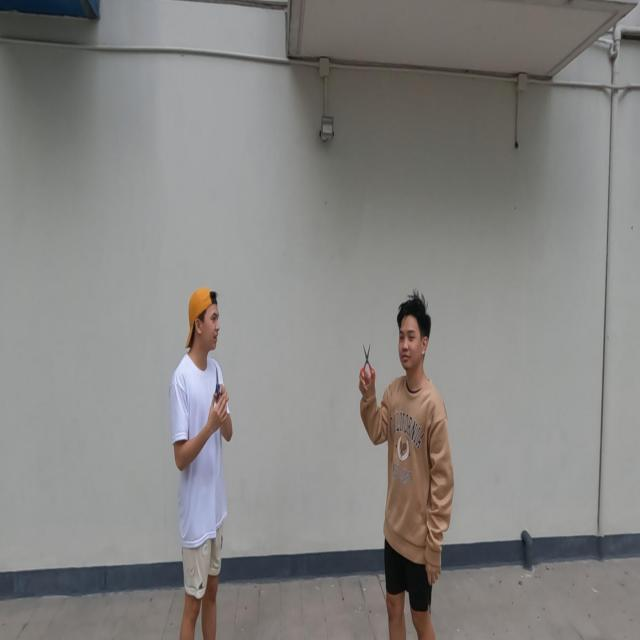scissor: (359, 342, 376, 382), (213, 366, 224, 402)
